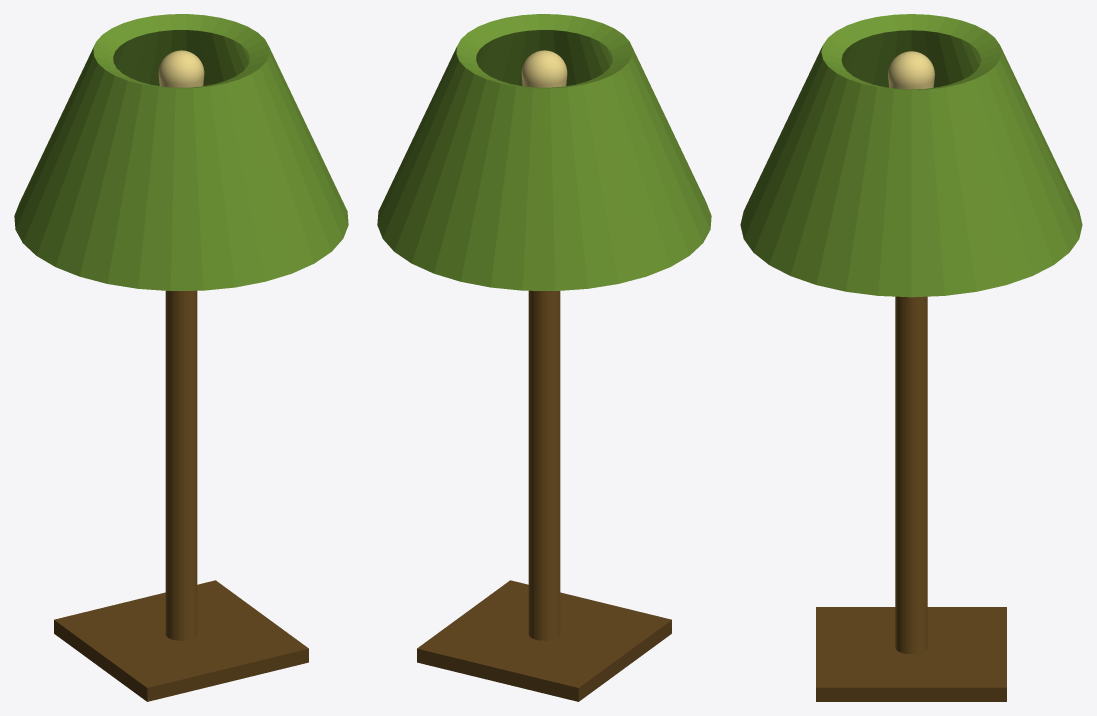
File: lamp.fbx
3 renders of one model, left to right at view 1: azimuth 30°, elevation 25°; view 2: azimuth 150°, elevation 25°; view 3: azimuth 270°, elevation 25°, orthographic. The views are drawn at different scales.
Visible parts, largest first — view 1: Cylinder, Plane, Circle, Roundcube; view 2: Cylinder, Plane, Circle, Roundcube; view 3: Cylinder, Plane, Circle, Roundcube.
Part boxes in pixels (x1,y1,x2,y2): Cylinder: (14, 14, 348, 290); Plane: (54, 580, 308, 701); Circle: (165, 290, 197, 640); Roundcube: (158, 50, 204, 87); Cylinder: (377, 14, 711, 290); Plane: (417, 580, 671, 701); Circle: (528, 290, 560, 640); Roundcube: (521, 50, 567, 87); Cylinder: (740, 14, 1082, 297); Plane: (816, 607, 1006, 701); Circle: (895, 296, 927, 654); Roundcube: (888, 51, 934, 89).
Bounding box in the file's own units: 359 × 705 × 359.
